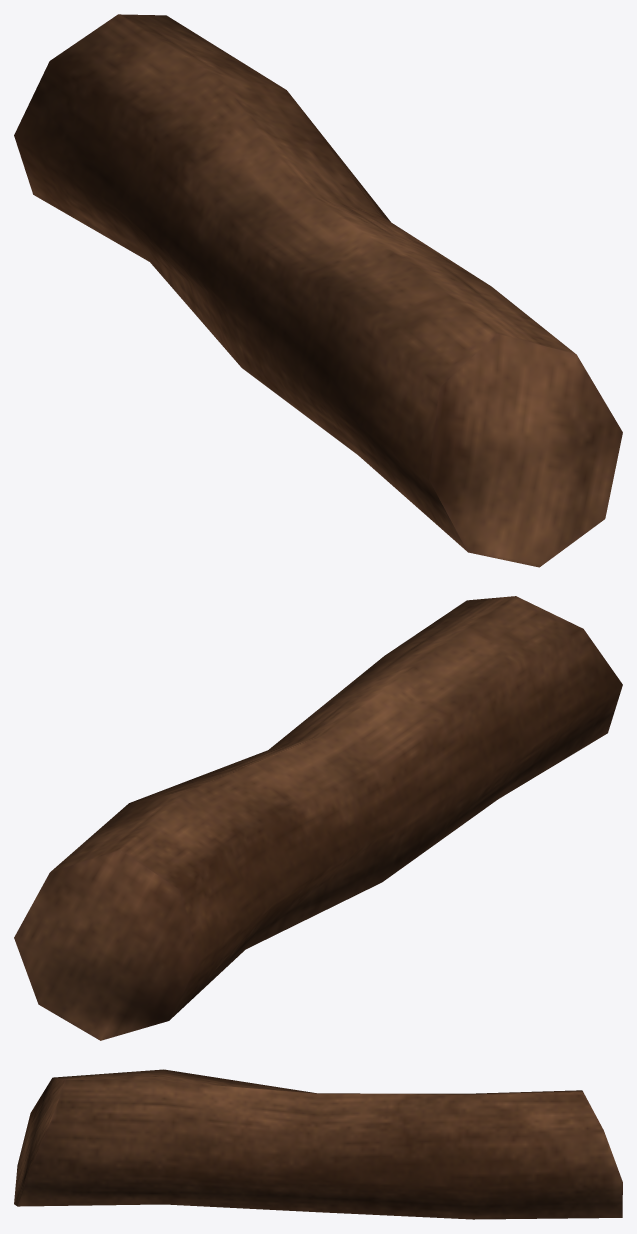
The model's file is Firewood 3.fbx.
3 renders of one model, top to bottom at view 1: azimuth 30°, elevation 25°; view 2: azimuth 150°, elevation 25°; view 3: azimuth 270°, elevation 25°, orthographic. The views are drawn at different scales.
Parts seen in each view (by area): view 1: Firewood 3; view 2: Firewood 3; view 3: Firewood 3.
Boxes of the visible parts, left/top/right/bottom form: Firewood 3: left=14, top=14, right=622, bottom=567; Firewood 3: left=14, top=596, right=622, bottom=1040; Firewood 3: left=14, top=1069, right=622, bottom=1219.
Size of the model in its own units: 0.1741 by 0.1364 by 0.6052.
